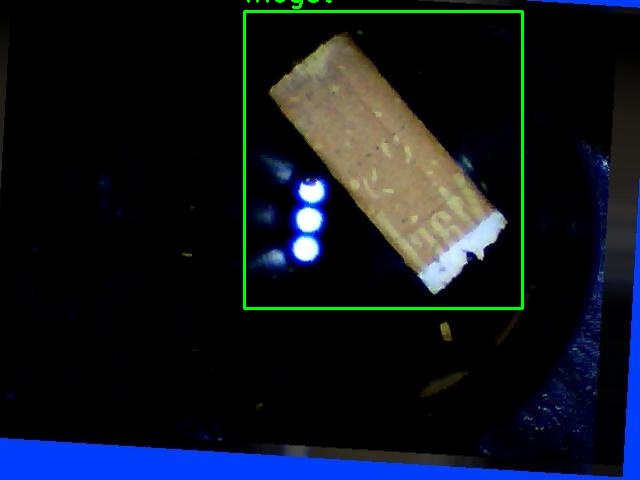megot: (244, 11, 522, 308)
